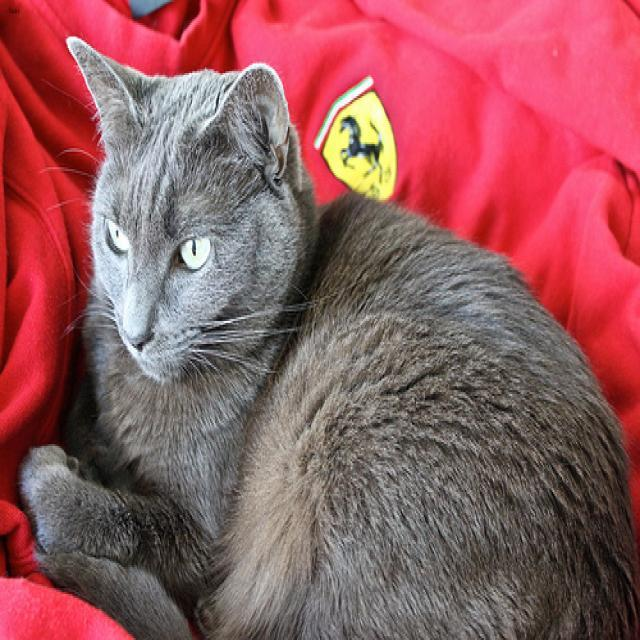Russian_Blue: (61, 28, 316, 395)
